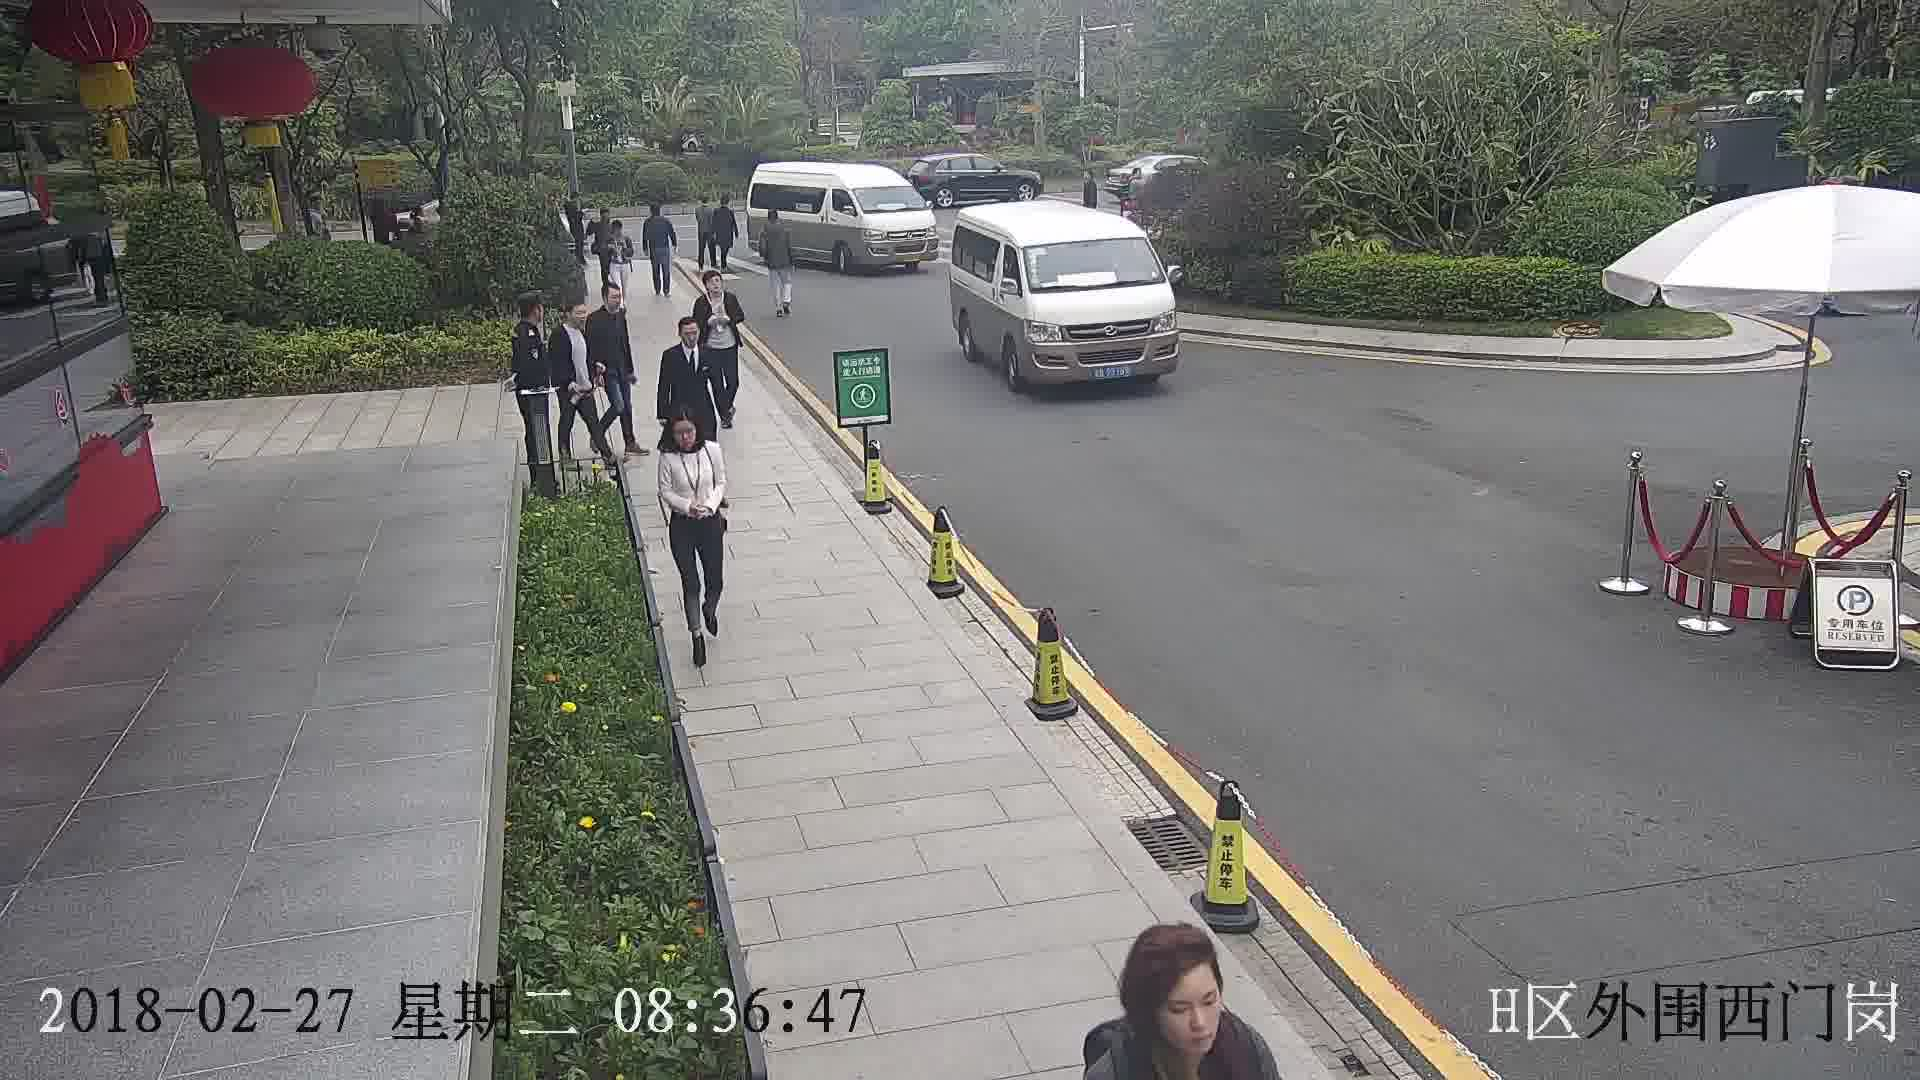face: (1140, 961, 1237, 1058)
person: (1079, 919, 1281, 1072), (653, 410, 721, 468), (662, 314, 710, 363), (512, 291, 553, 342), (590, 279, 630, 328), (553, 293, 593, 342), (692, 266, 739, 308), (762, 207, 787, 238), (643, 200, 671, 226), (711, 191, 735, 218), (695, 188, 717, 213), (598, 211, 622, 234), (592, 202, 614, 225), (1124, 167, 1145, 188), (1081, 165, 1097, 191)
